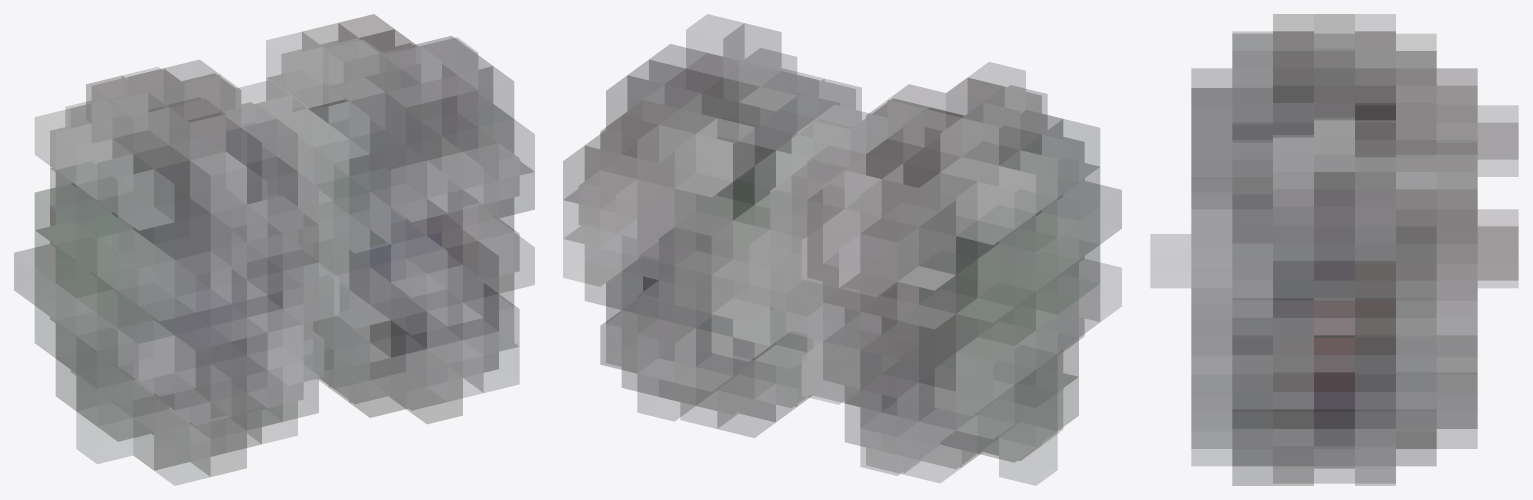
File: iter_10.obj
3 views of the same model, side by side, from view 1: azimuth 30°, elevation 25°; view 2: azimuth 150°, elevation 25°; view 3: azimuth 270°, elevation 25° (orthographic). The views are drawn at different scales.
Parts seen in each view (by area): view 1: iter_10; view 2: iter_10; view 3: iter_10.
Part boxes in pixels (<box>): iter_10: <box>14,14,534,485</box>; iter_10: <box>563,14,1121,485</box>; iter_10: <box>1151,14,1518,485</box>.
Bounding box in the file's own units: 1.1 × 0.9 × 0.9.
